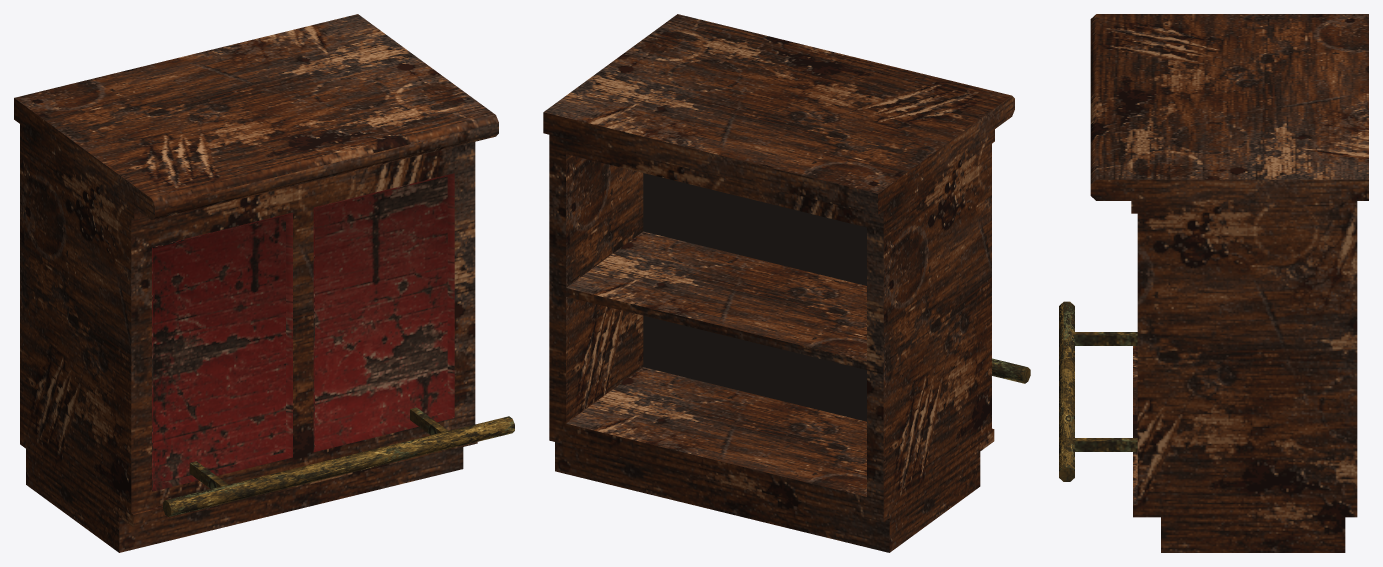
File: HB_Counter_Straight.fbx
The picture shows the model from 3 angles, left to right: view 1: azimuth 30°, elevation 25°; view 2: azimuth 150°, elevation 25°; view 3: azimuth 270°, elevation 25°; orthographic projection. The views are drawn at different scales.
Parts seen in each view (by area): view 1: HB_Counter_Straight; view 2: HB_Counter_Straight; view 3: HB_Counter_Straight.
Boxes of the visible parts, <box> form: HB_Counter_Straight: <box>14,14,514,552</box>; HB_Counter_Straight: <box>543,14,1030,552</box>; HB_Counter_Straight: <box>1059,14,1368,552</box>.
Bounding box in the file's own units: 1 × 1.05 × 0.7903.
3 materials, 2 textured.
